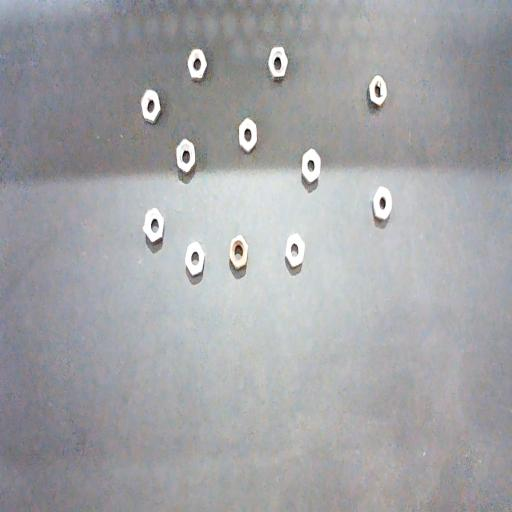nut: (143, 207, 164, 244), (176, 138, 195, 176), (285, 232, 305, 268), (185, 241, 205, 277), (267, 47, 288, 81), (301, 148, 321, 183), (141, 90, 161, 124), (372, 186, 392, 220), (230, 234, 248, 271), (188, 48, 208, 81), (368, 75, 387, 108), (239, 118, 257, 152)
